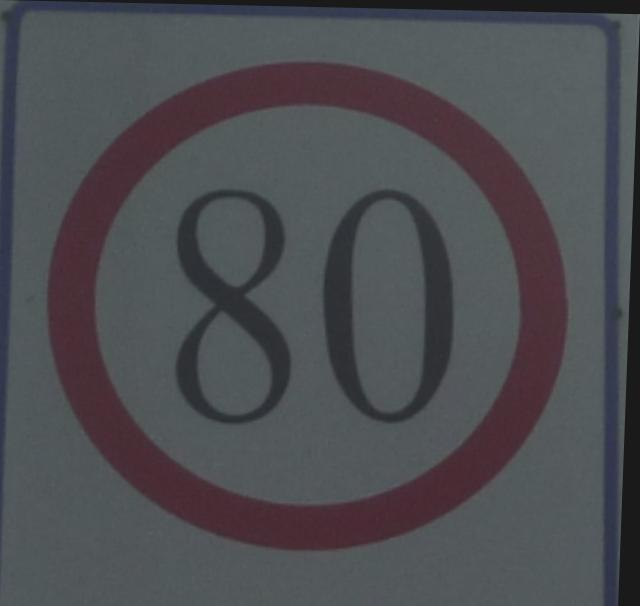limit80: (26, 45, 593, 560)
